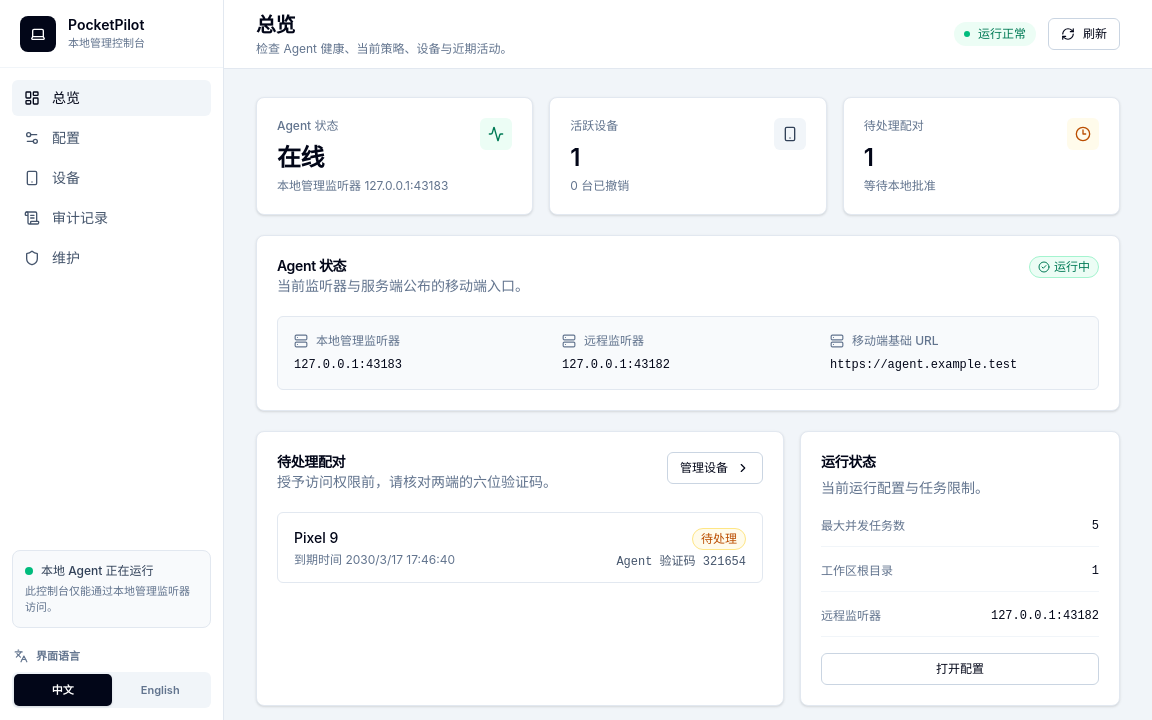
Scenario: App › switches locale without losing the current configuration draft
expect the text "127.0.0.1:43183" is shown: met, box [294, 358, 402, 372]
Click the button "配置". click: (112, 138)
box: [12, 120, 211, 156]
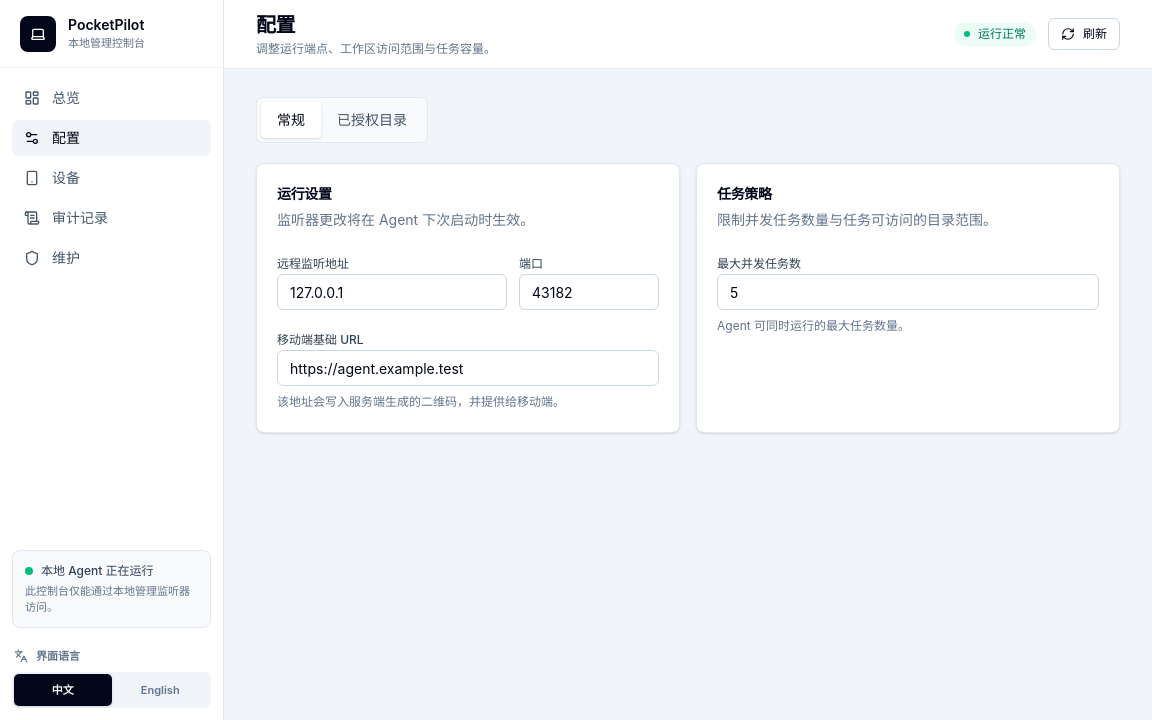
Replace the text in the field showing "https://agent.example.test" with "https://draft.example.test". click: (468, 368)
box: [277, 350, 659, 386]
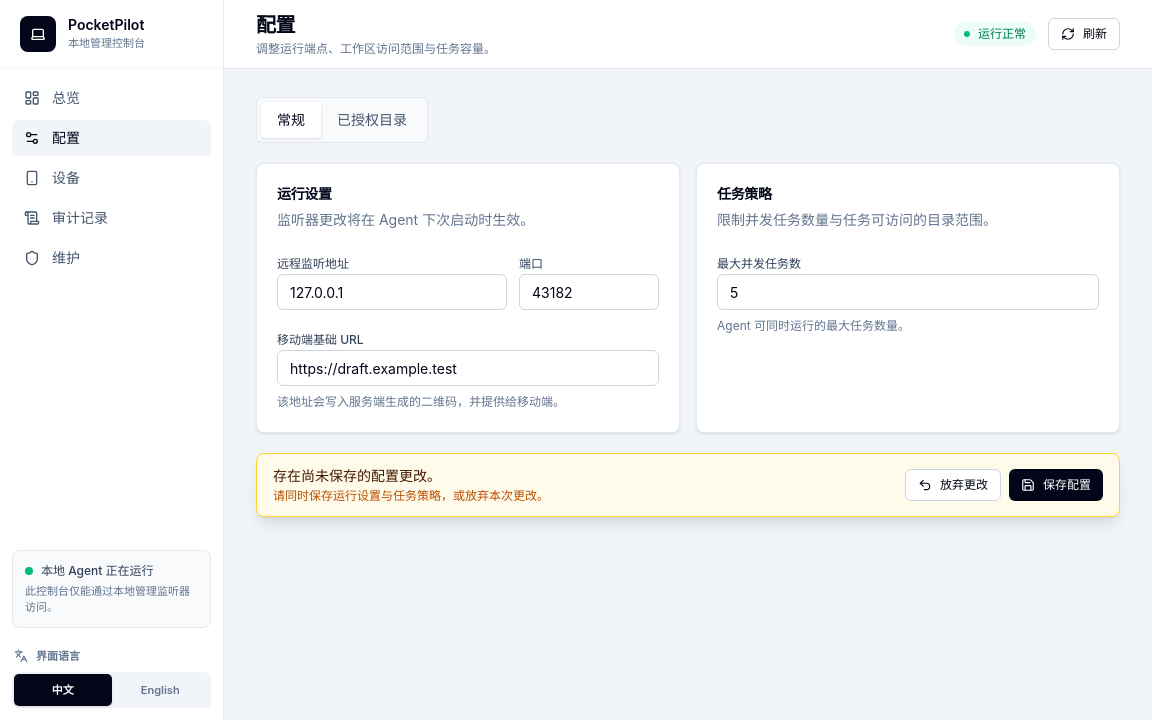
Click the button "English". click: (160, 690)
box: [112, 674, 209, 706]
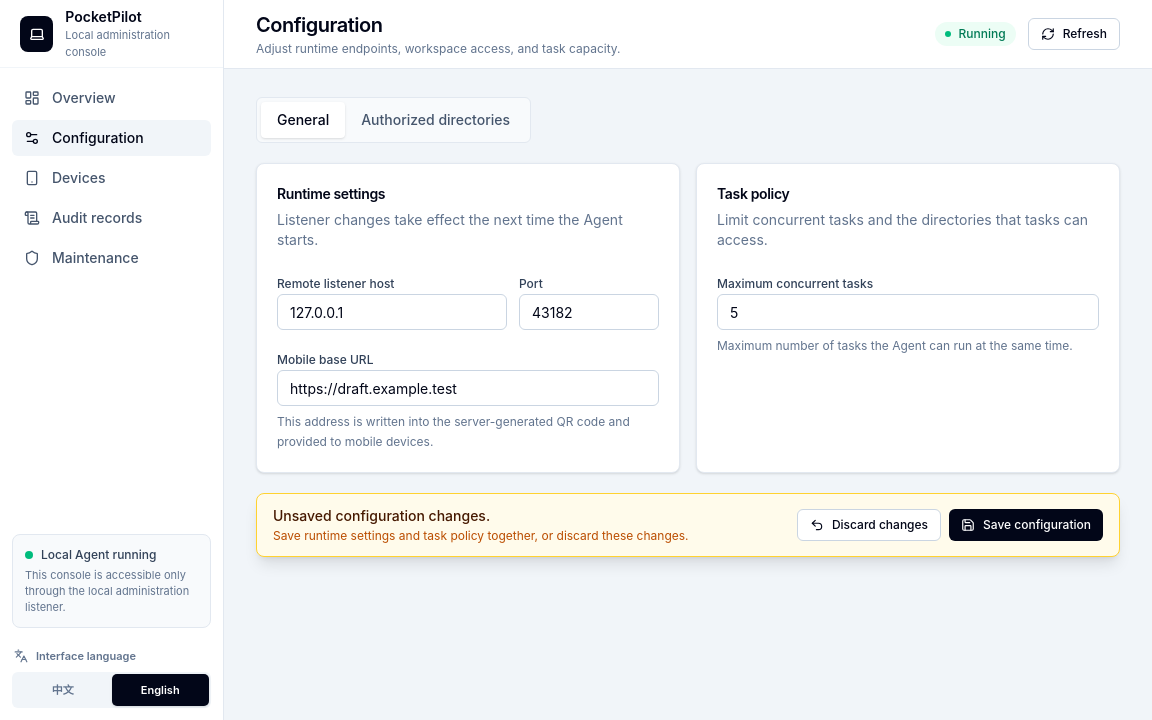
expect the heading "Configuration" is shown: met, box [256, 13, 382, 37]
expect the text "Unsaved configuration changes." is shown: met, box [273, 507, 490, 524]
expect the element "Interface language" is shown: met, box [12, 648, 211, 708]
